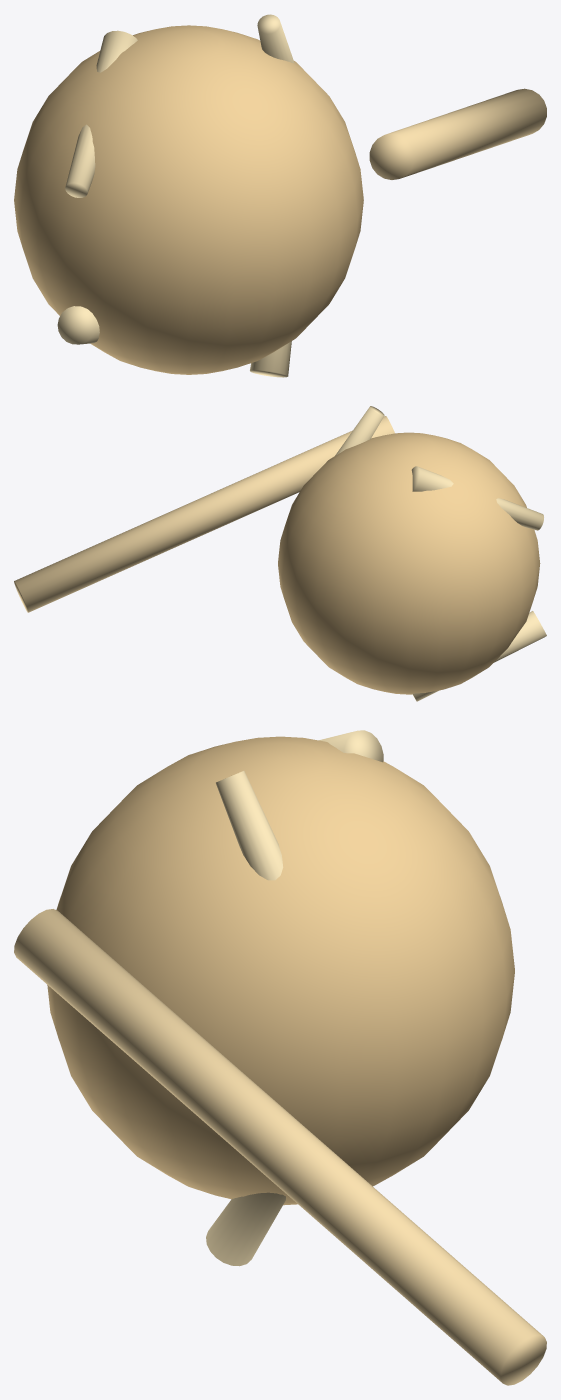
The model's file is neuron.glb.
The picture shows the model from 3 angles, top to bottom: view 1: azimuth 30°, elevation 25°; view 2: azimuth 150°, elevation 25°; view 3: azimuth 270°, elevation 25°; orthographic projection. The views are drawn at different scales.
Parts seen in each view (by area): view 1: soma, axon, dend_2.3, dend_-2.3, dend_0.8, dend_-0.8; view 2: soma, axon, dend_2.3, dend_-2.3, dend_0.8; view 3: soma, axon, dend_-0.8, dend_0.8, dend_2.3.
Boxes of the visible parts, x1=… form: soma: x1=14, y1=25, x2=363, y2=374; axon: x1=369, y1=88, x2=546, y2=179; dend_2.3: x1=65, y1=30, x2=137, y2=197; dend_-2.3: x1=57, y1=306, x2=99, y2=344; dend_0.8: x1=257, y1=14, x2=294, y2=63; dend_-0.8: x1=250, y1=341, x2=291, y2=377; soma: x1=278, y1=432, x2=540, y2=694; axon: x1=14, y1=416, x2=394, y2=612; dend_2.3: x1=411, y1=466, x2=543, y2=530; dend_-2.3: x1=412, y1=611, x2=546, y2=701; dend_0.8: x1=335, y1=406, x2=384, y2=455; soma: x1=47, y1=736, x2=514, y2=1205; axon: x1=14, y1=909, x2=546, y2=1385; dend_-0.8: x1=206, y1=1192, x2=285, y2=1266; dend_0.8: x1=216, y1=771, x2=283, y2=880; dend_2.3: x1=319, y1=730, x2=383, y2=762.
Size of the model in its own units: 1.78 by 1.04 by 1.02.
